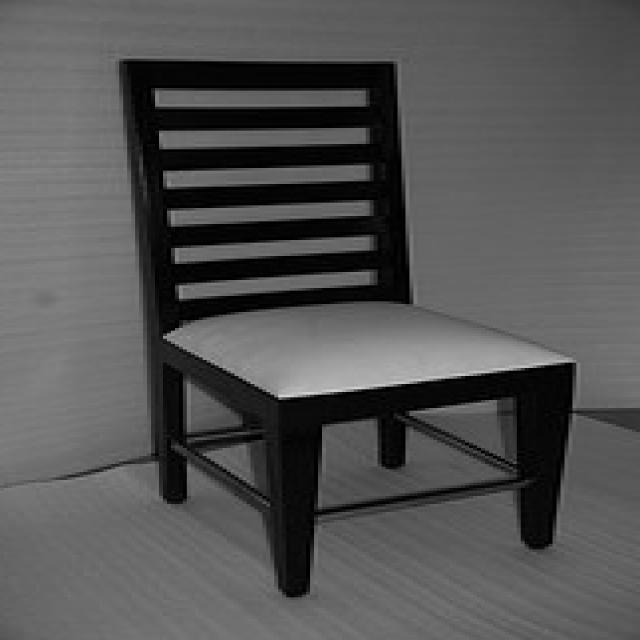chair: (114, 55, 584, 599)
